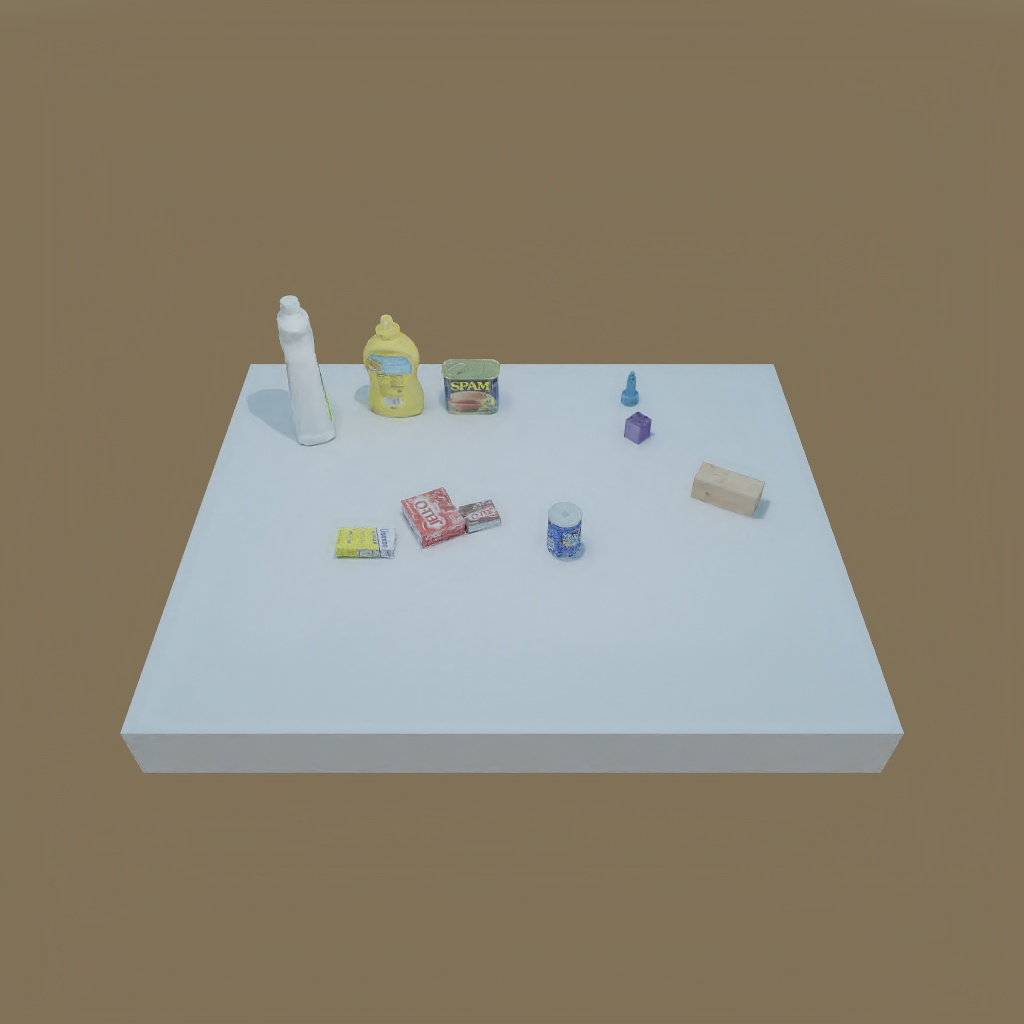gelatin_box: (400, 489, 461, 543)
master_chef_can: (541, 498, 590, 560)
mustard_bottle: (363, 316, 431, 418)
potted_meat_can: (439, 356, 503, 418)
pudding_box: (457, 501, 507, 530)
wood_block: (687, 460, 767, 524)
